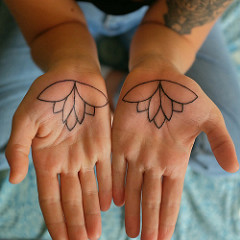palm: (123, 75, 196, 173), (31, 82, 110, 169)
